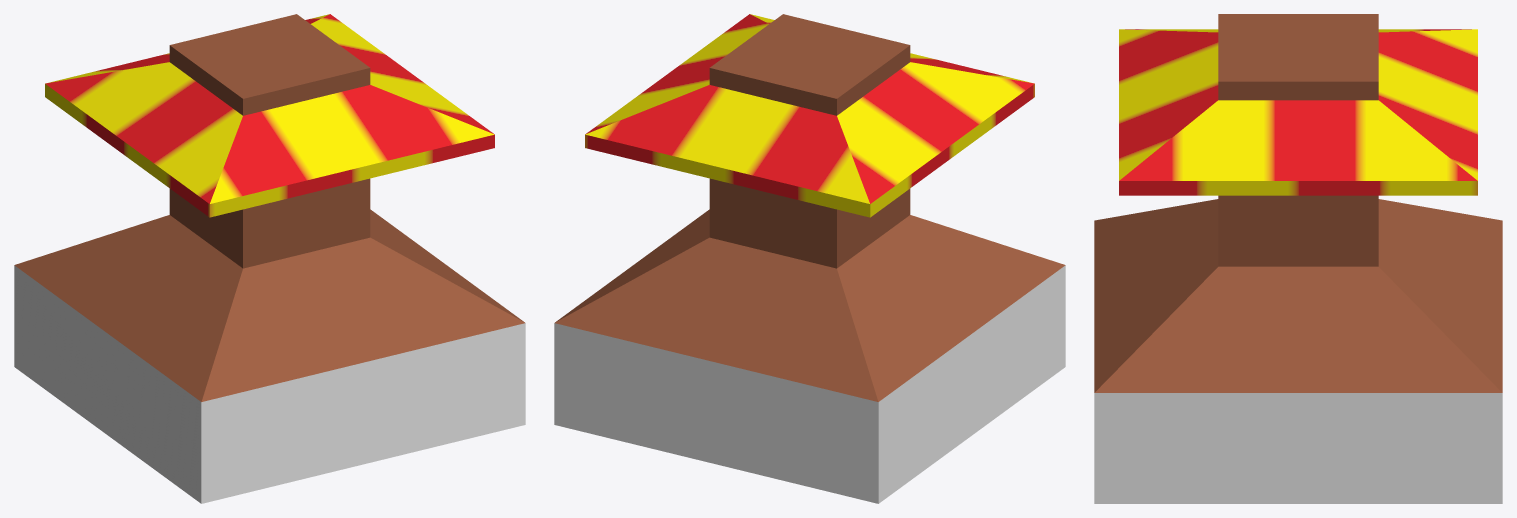
The model's file is shop.fbx.
The picture shows the model from 3 angles, left to right: view 1: azimuth 30°, elevation 25°; view 2: azimuth 150°, elevation 25°; view 3: azimuth 270°, elevation 25°; orthographic projection. The views are drawn at different scales.
Visible parts, largest first — view 1: Shop; view 2: Shop; view 3: Shop.
Part boxes in pixels (box(x1,y1,x2,y2)): Shop: box(14, 14, 525, 503); Shop: box(554, 14, 1065, 503); Shop: box(1094, 14, 1502, 503).
Bounding box in the file's own units: 200 × 200 × 200.
